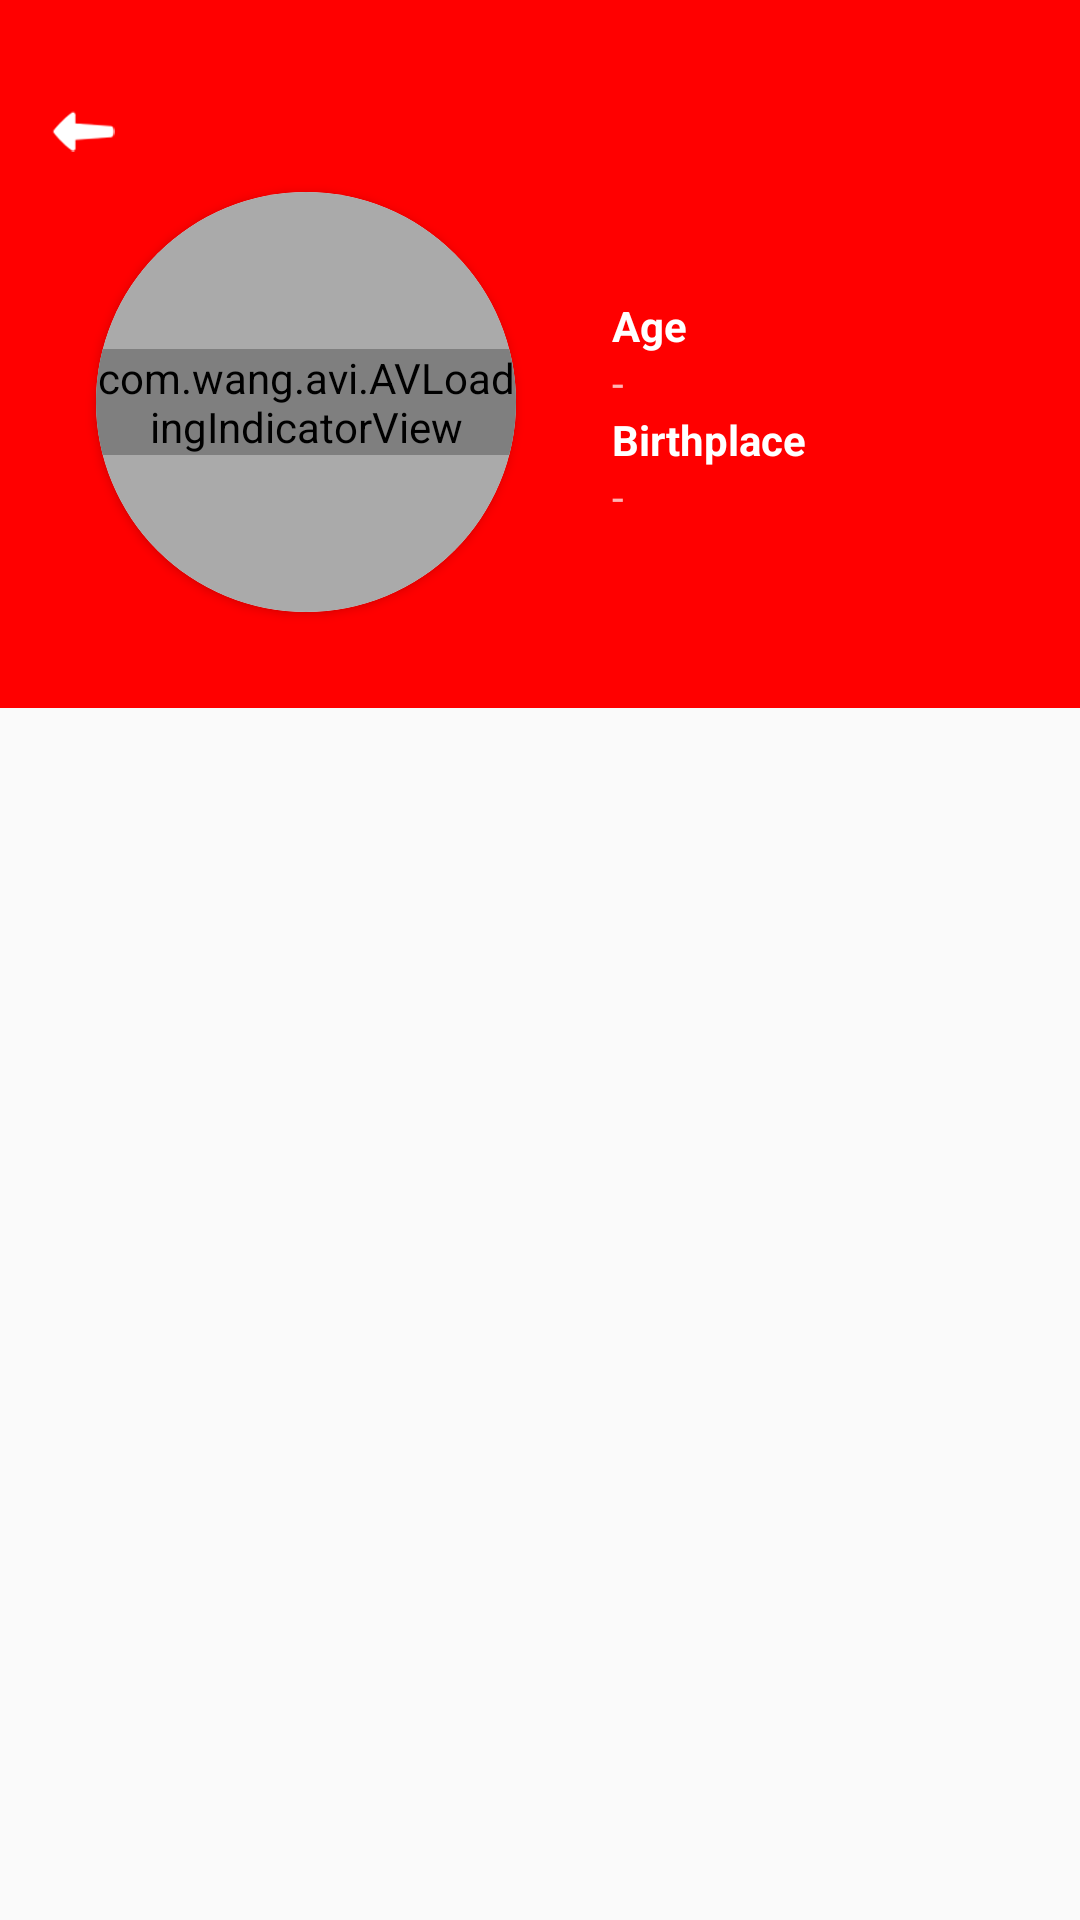

Where icons sit on this 1080*1920 app screen, as detection(x1, y1, x2, y2):
arrow back: detection(53, 111, 115, 152)
